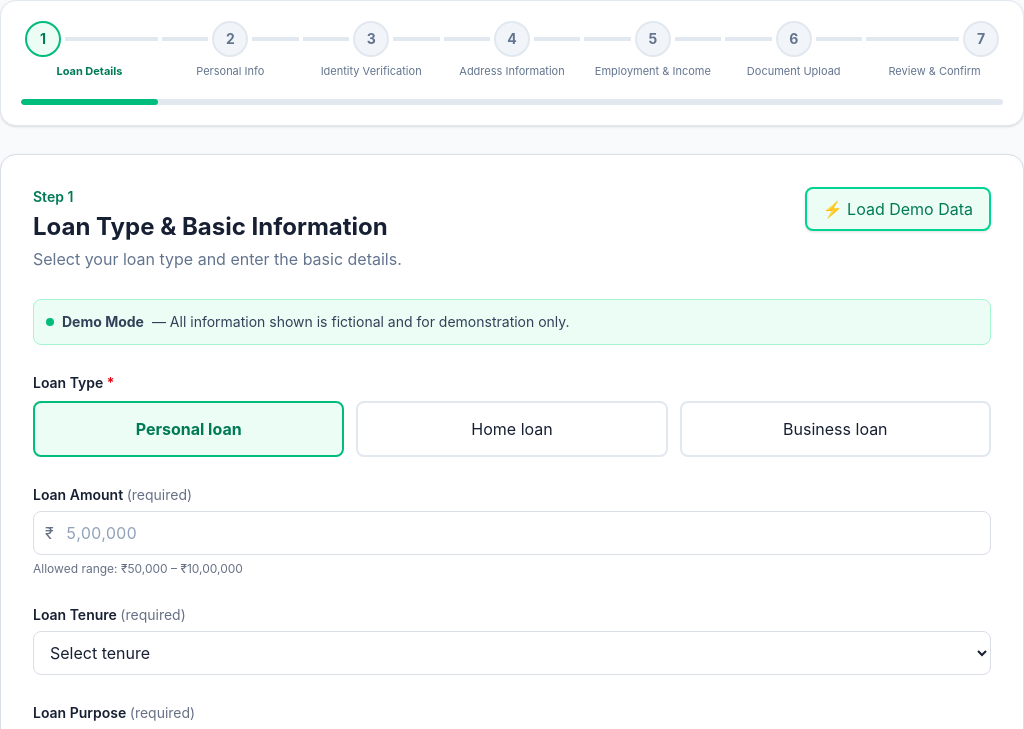
it: Step 1 › formats the amount in the Indian digit system while typing
Type "1050000" into the field labelled "Loan Amount (required)" at (512, 533), box [33, 511, 991, 555]
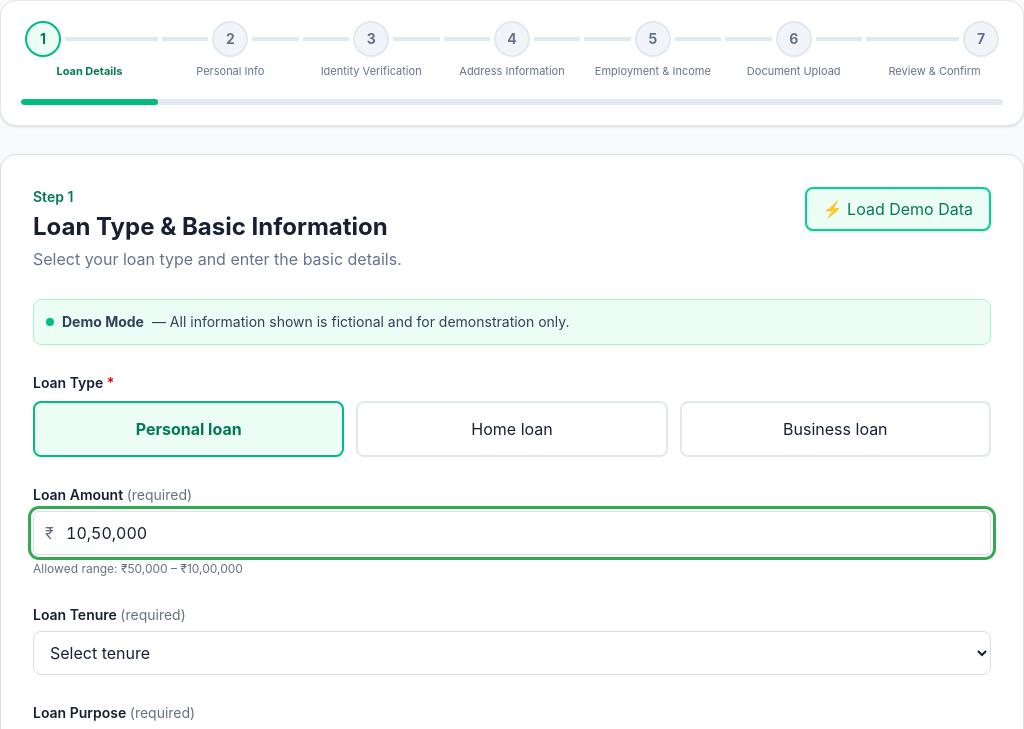
Expected: the field labelled "Loan Amount (required)" holds "10,50,000", [33, 511, 991, 555]
